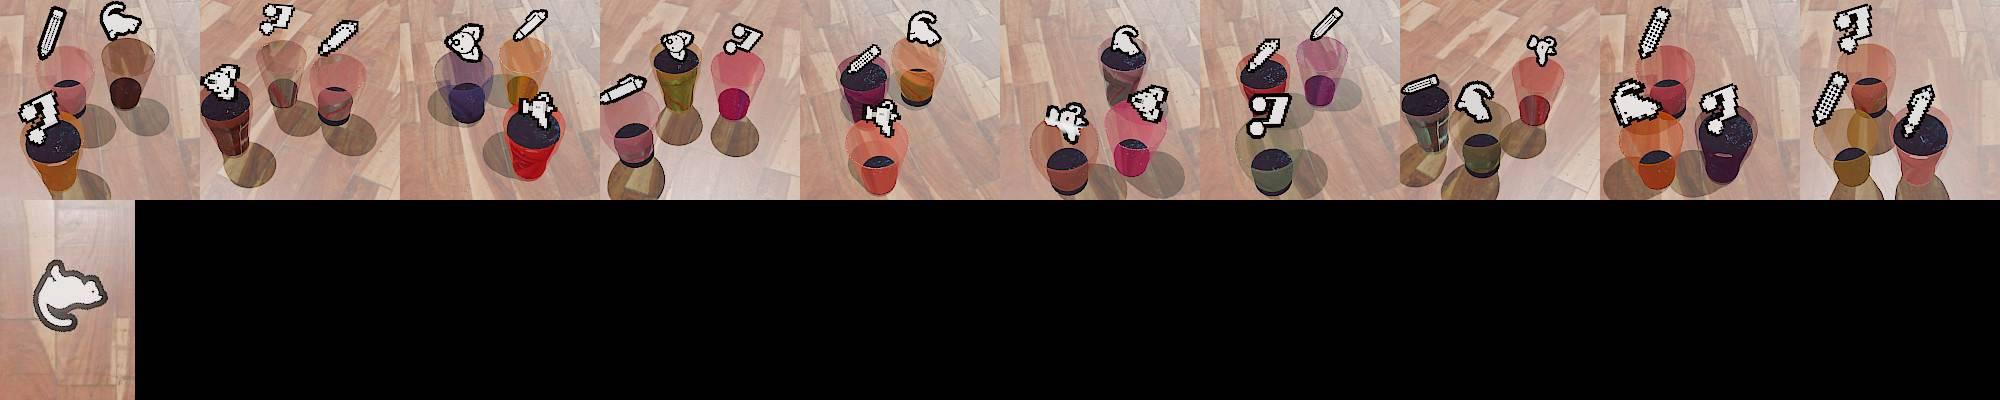icon: (29, 255, 109, 335), (18, 88, 66, 146), (1610, 76, 1662, 127), (1700, 82, 1740, 137), (1833, 4, 1874, 55), (1043, 100, 1090, 144), (1246, 91, 1291, 136), (1811, 70, 1847, 126), (1638, 5, 1673, 61), (99, 1, 144, 41), (1901, 84, 1935, 136), (861, 95, 902, 138), (1454, 79, 1495, 122), (37, 7, 68, 62), (1128, 83, 1169, 124), (317, 18, 359, 57), (599, 72, 648, 105), (445, 22, 486, 61), (201, 62, 242, 100), (722, 20, 764, 55), (1243, 36, 1281, 73), (906, 9, 942, 47), (259, 2, 298, 36), (520, 90, 554, 129), (658, 29, 696, 63), (1309, 6, 1343, 42), (1109, 24, 1143, 59), (513, 8, 549, 41), (1525, 33, 1559, 67), (846, 43, 881, 74), (1404, 72, 1442, 97)
